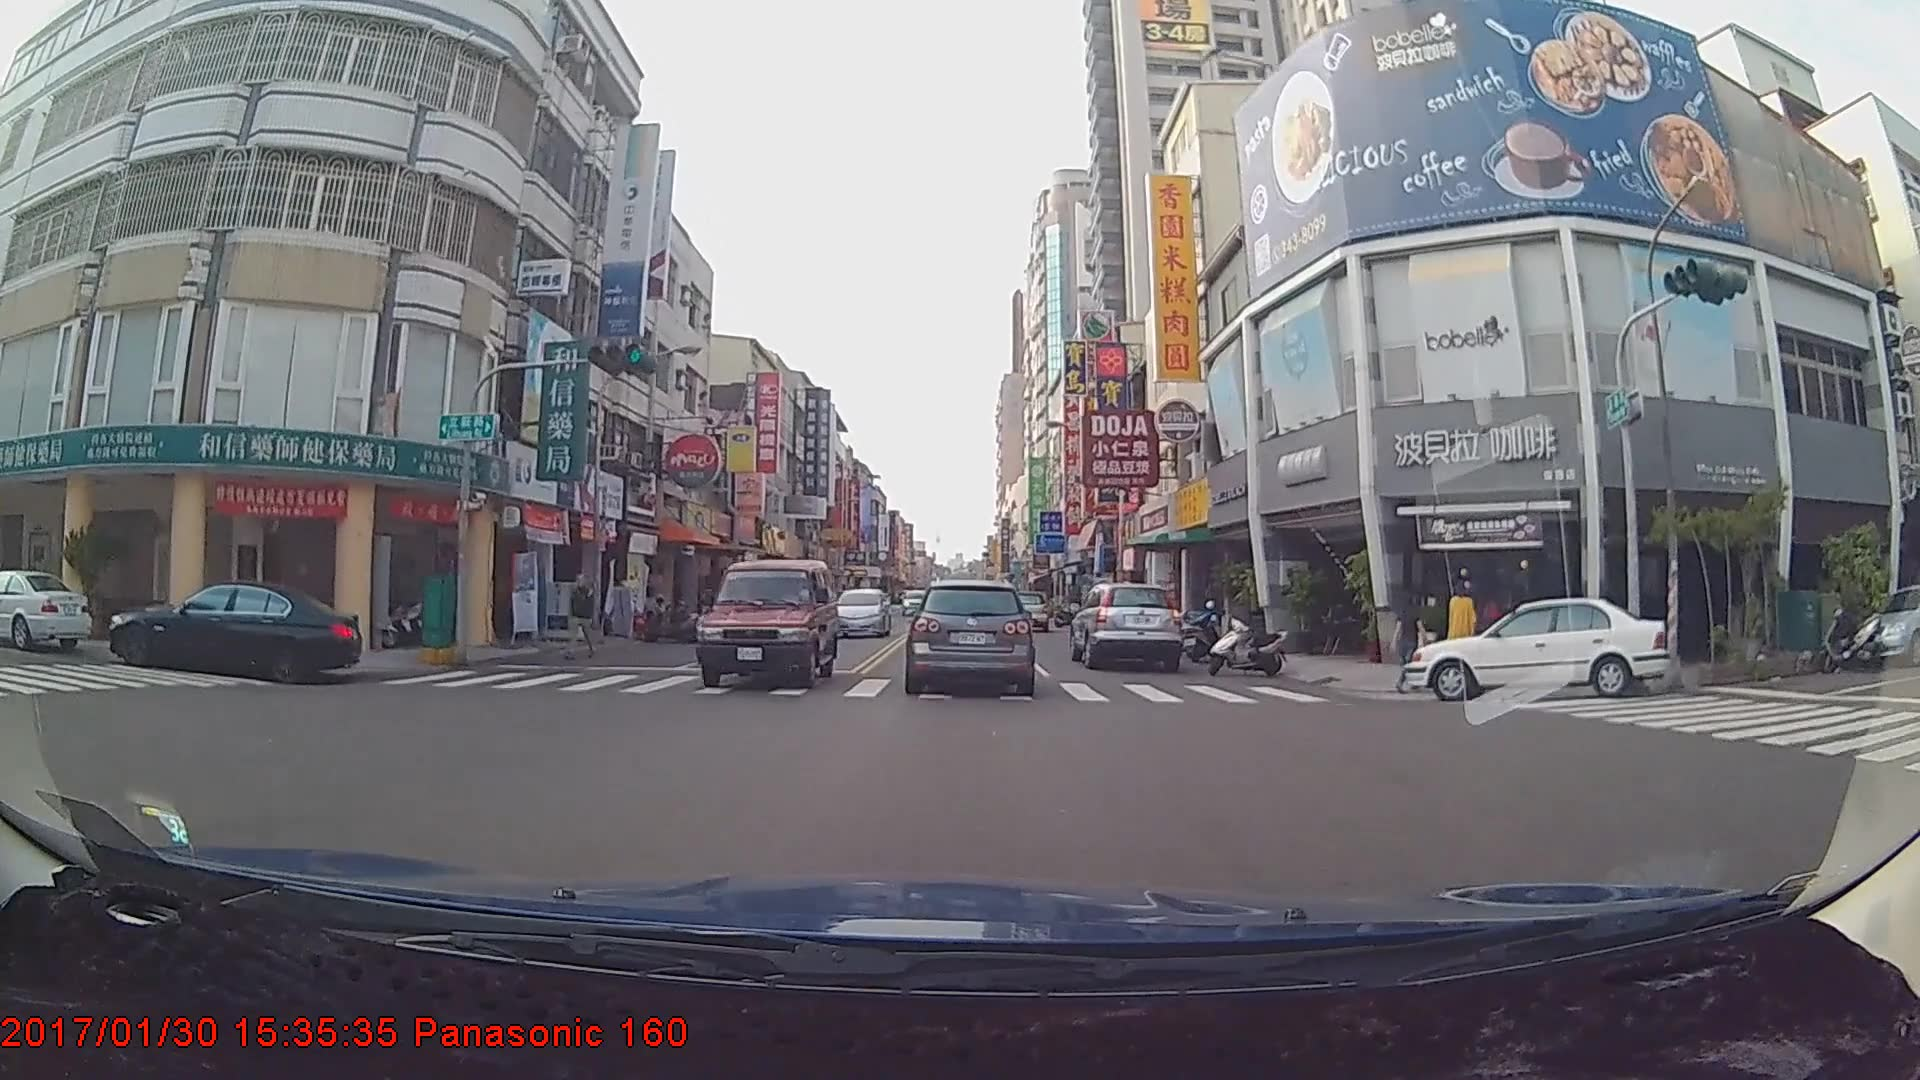pedestrian: (564, 570, 604, 656), (1396, 591, 1429, 694), (1448, 580, 1480, 669)
vehicle: (1400, 593, 1674, 699), (106, 575, 362, 683), (692, 558, 840, 688), (910, 581, 1030, 692), (1067, 579, 1184, 673), (0, 567, 91, 649), (1855, 583, 1920, 664), (829, 586, 892, 637), (1002, 588, 1047, 630)
